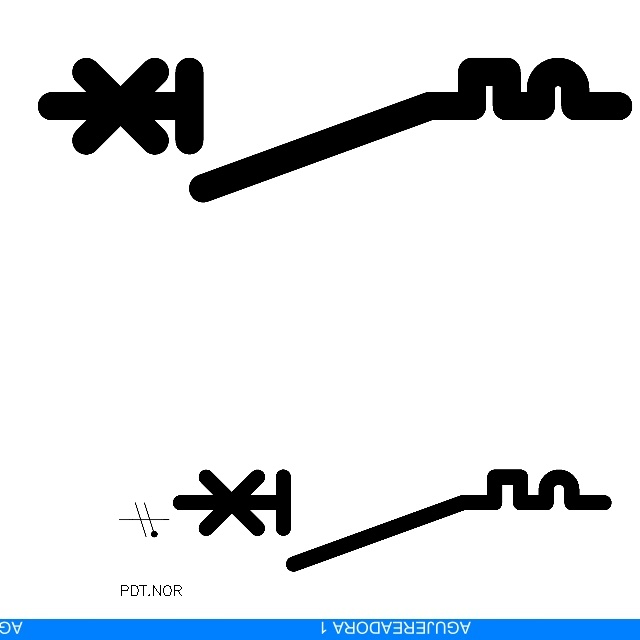interruptor_termomagnetico: (37, 57, 633, 203), (169, 466, 614, 575)
